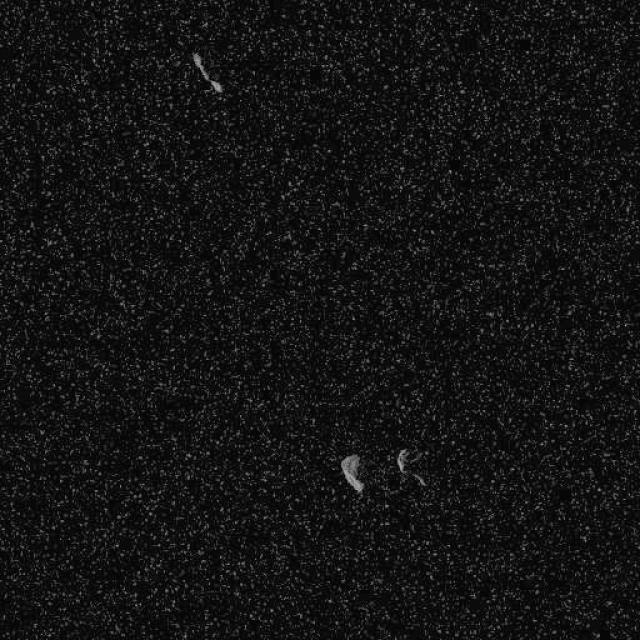D2: (190, 50, 224, 95), (395, 447, 427, 488), (339, 452, 365, 492)
